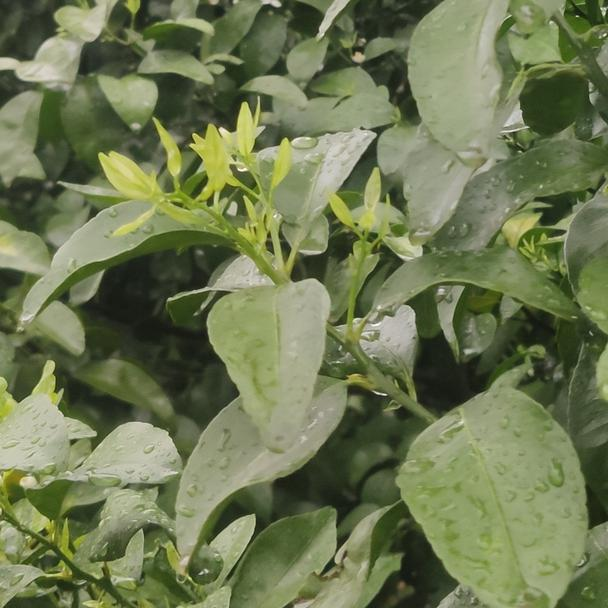shoot: (112, 150, 242, 251), (217, 117, 289, 234), (328, 182, 395, 300)
